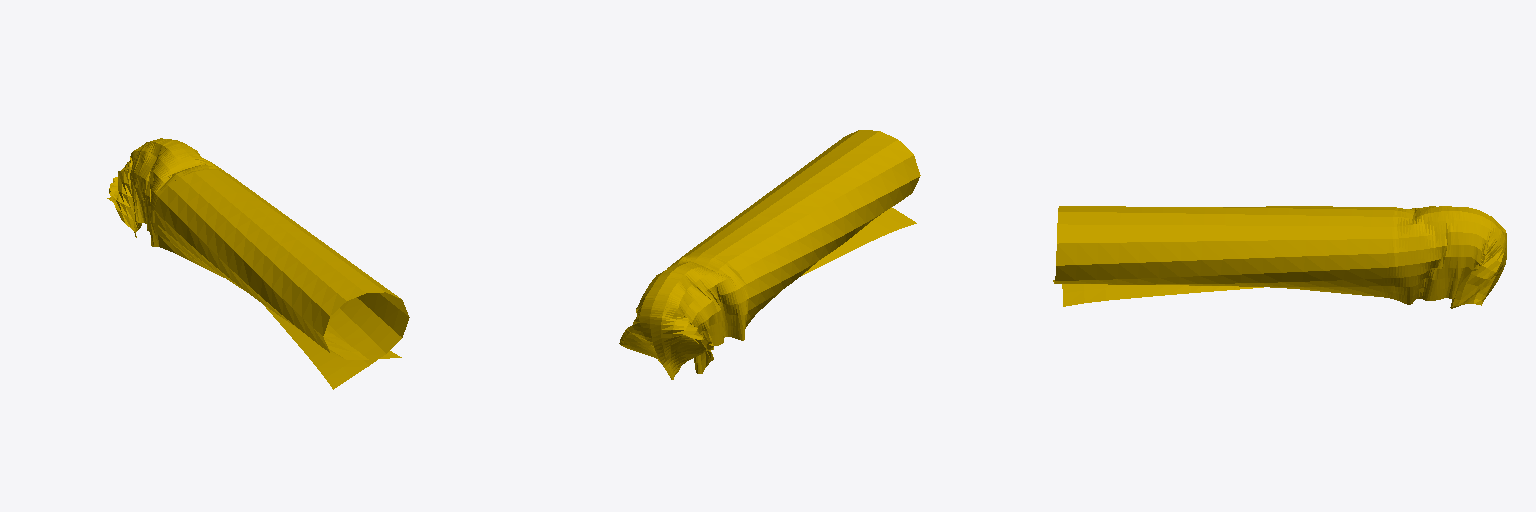
Rendered from cape.obj.
3 renders of one model, left to right at view 1: azimuth 30°, elevation 25°; view 2: azimuth 150°, elevation 25°; view 3: azimuth 270°, elevation 25°, orthographic.
Parts seen in each view (by area): view 1: Plane; view 2: Plane; view 3: Plane.
Boxes of the visible parts, <box> form: Plane: <box>107,138,409,389</box>; Plane: <box>619,130,920,379</box>; Plane: <box>1053,206,1506,308</box>.
Size of the model in its own units: 0.9468 by 0.9096 by 3.87.